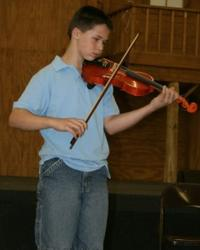person: (8, 7, 181, 250)
